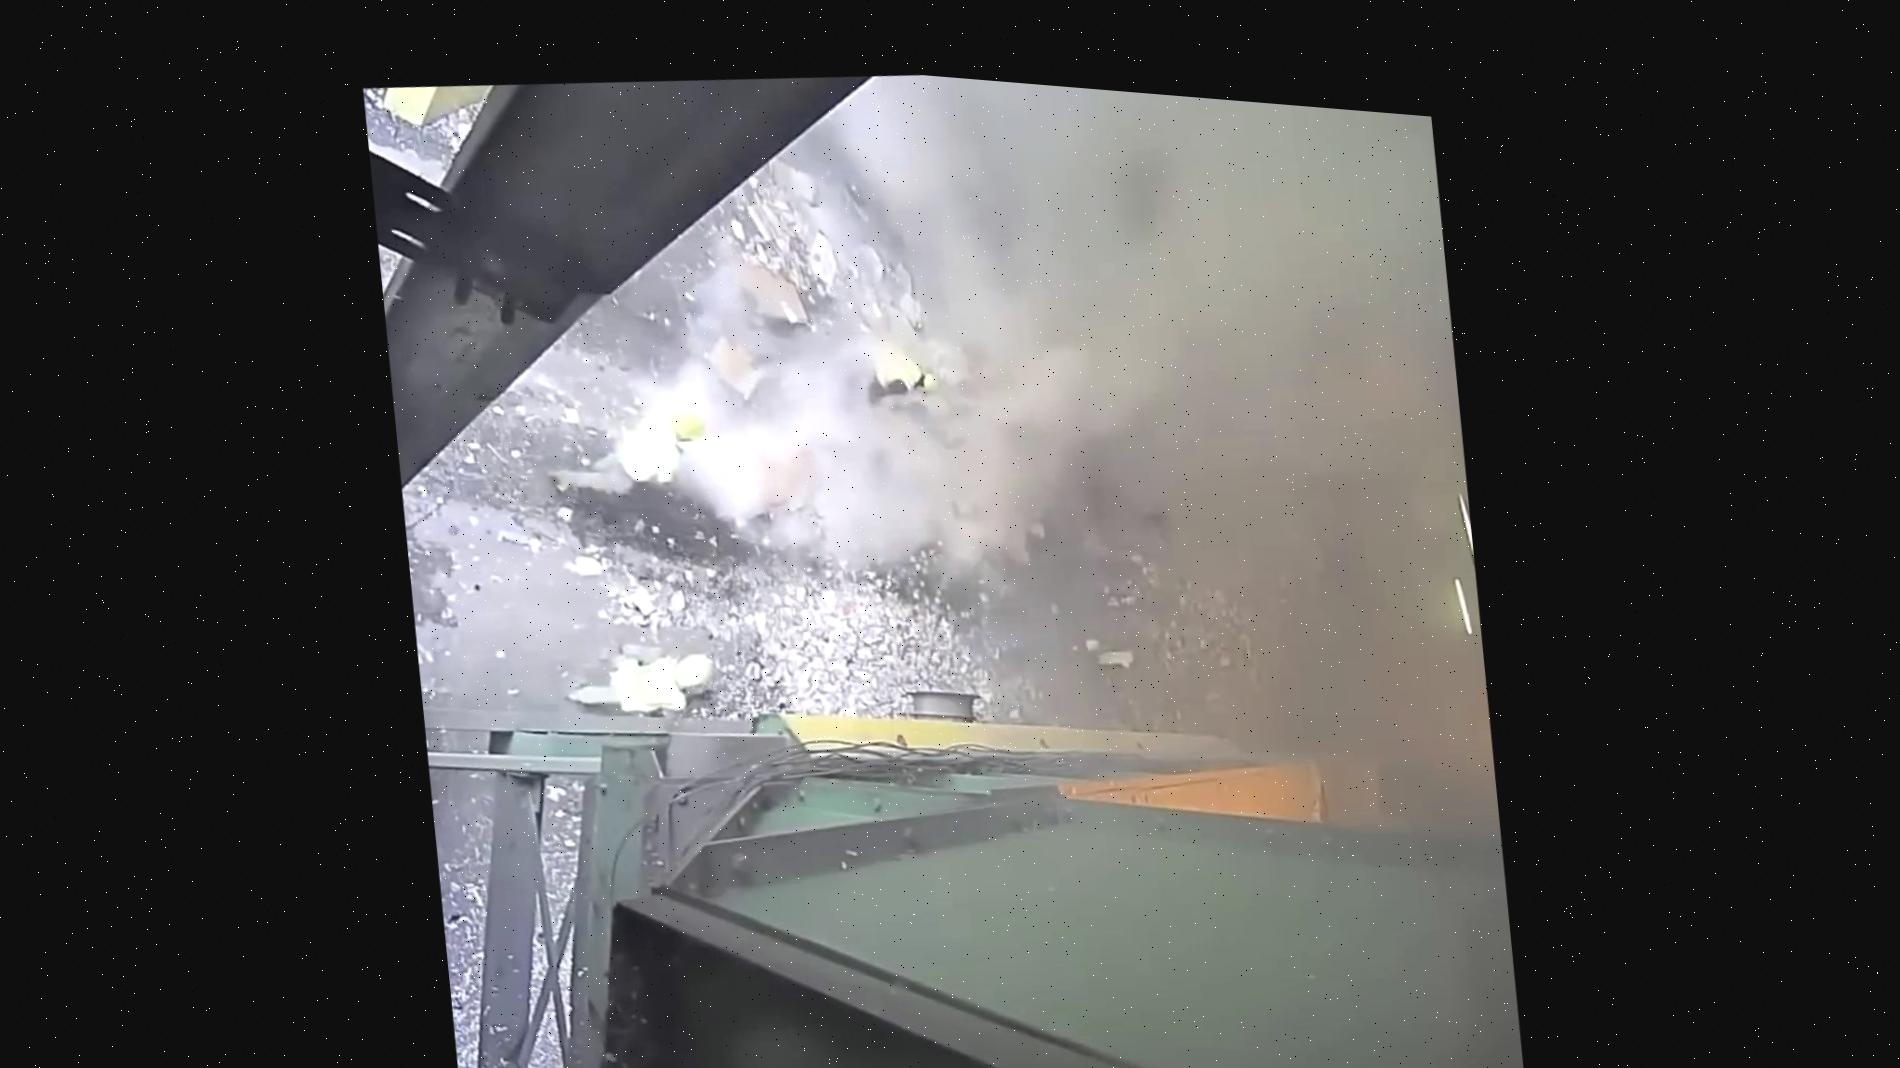smoke: (619, 274, 1295, 642)
